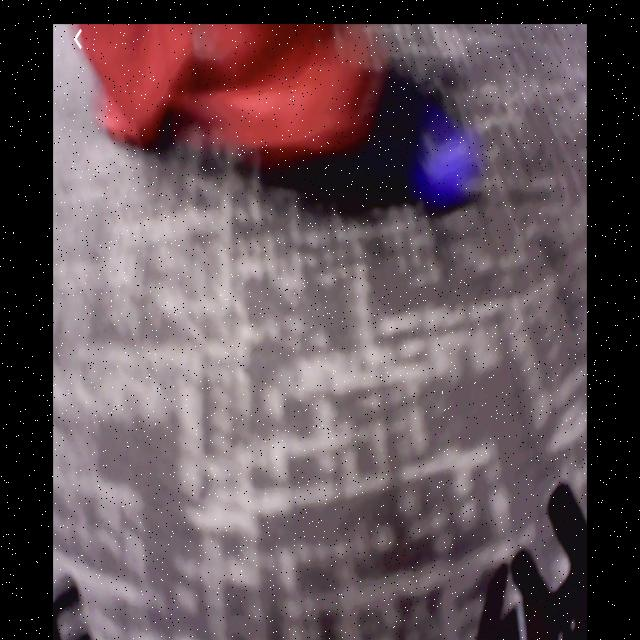ball: (418, 124, 473, 206)
